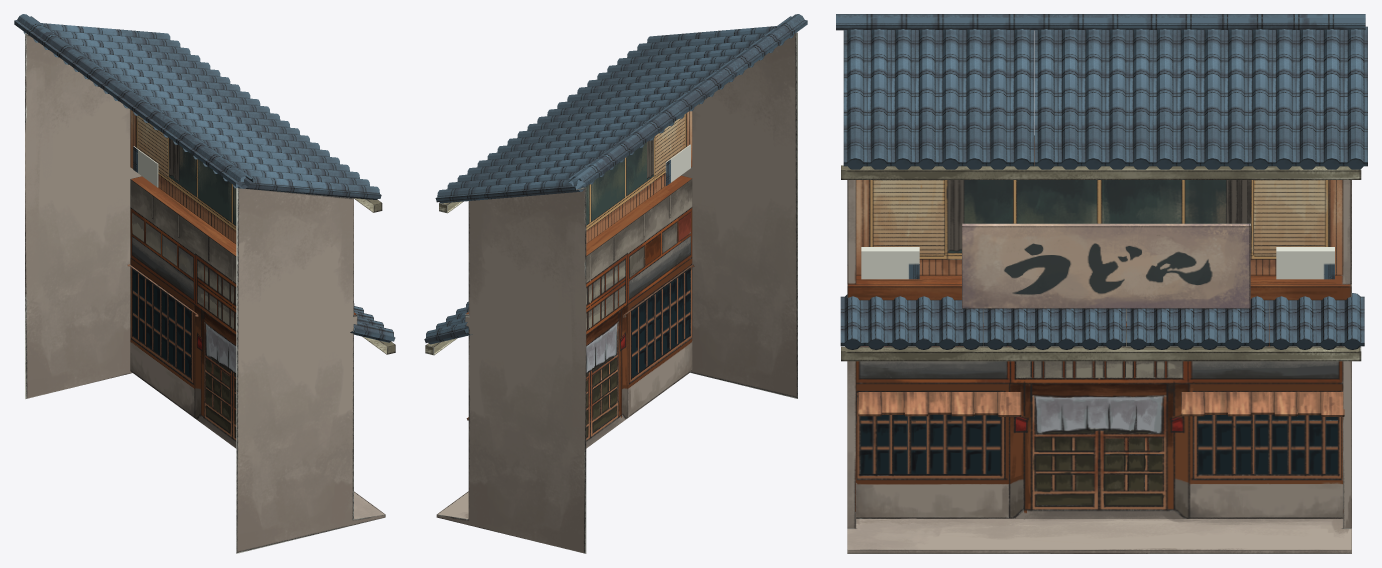
Rendered from home01_without_vending_machine.fbx.
3 views of the same model, side by side, from view 1: azimuth 30°, elevation 25°; view 2: azimuth 150°, elevation 25°; view 3: azimuth 270°, elevation 25° (orthographic). The views are drawn at different scales.
Parts seen in each view (by area): view 1: Cube.004, Circle.047_LOD0, Circle.023, Circle.025_LOD0, Cube.028; view 2: Cube.004, Circle.047_LOD0, Circle.023, Circle.025_LOD0, Cube.024; view 3: Cube.004, Circle.047_LOD0, Cube.012, Circle.025_LOD0, Circle.023, Cube.027, Cube.015, Cube.014, Cube.011, Cube.024, Cube.028.
Part boxes in pixels (bbox=[...]): Cube.004: bbox=[25, 33, 385, 553]; Circle.047_LOD0: bbox=[23, 23, 381, 199]; Circle.023: bbox=[14, 14, 253, 188]; Circle.025_LOD0: bbox=[350, 303, 395, 342]; Cube.028: bbox=[133, 146, 158, 187]; Cube.004: bbox=[436, 32, 797, 553]; Circle.047_LOD0: bbox=[435, 26, 794, 203]; Circle.023: bbox=[568, 14, 807, 189]; Circle.025_LOD0: bbox=[424, 301, 472, 344]; Cube.024: bbox=[665, 144, 690, 185]; Cube.004: bbox=[847, 135, 1351, 553]; Circle.047_LOD0: bbox=[843, 26, 1367, 169]; Cube.012: bbox=[962, 223, 1250, 308]; Circle.025_LOD0: bbox=[840, 293, 1364, 349]; Circle.023: bbox=[836, 14, 1365, 30]; Cube.027: bbox=[841, 346, 1361, 361]; Cube.015: bbox=[841, 165, 1361, 179]; Cube.014: bbox=[858, 392, 1021, 416]; Cube.011: bbox=[1181, 392, 1344, 416]; Cube.024: bbox=[861, 247, 919, 279]; Cube.028: bbox=[1276, 247, 1334, 279].
Size of what is drawn, in the model's own units: 207 by 460 by 488.
